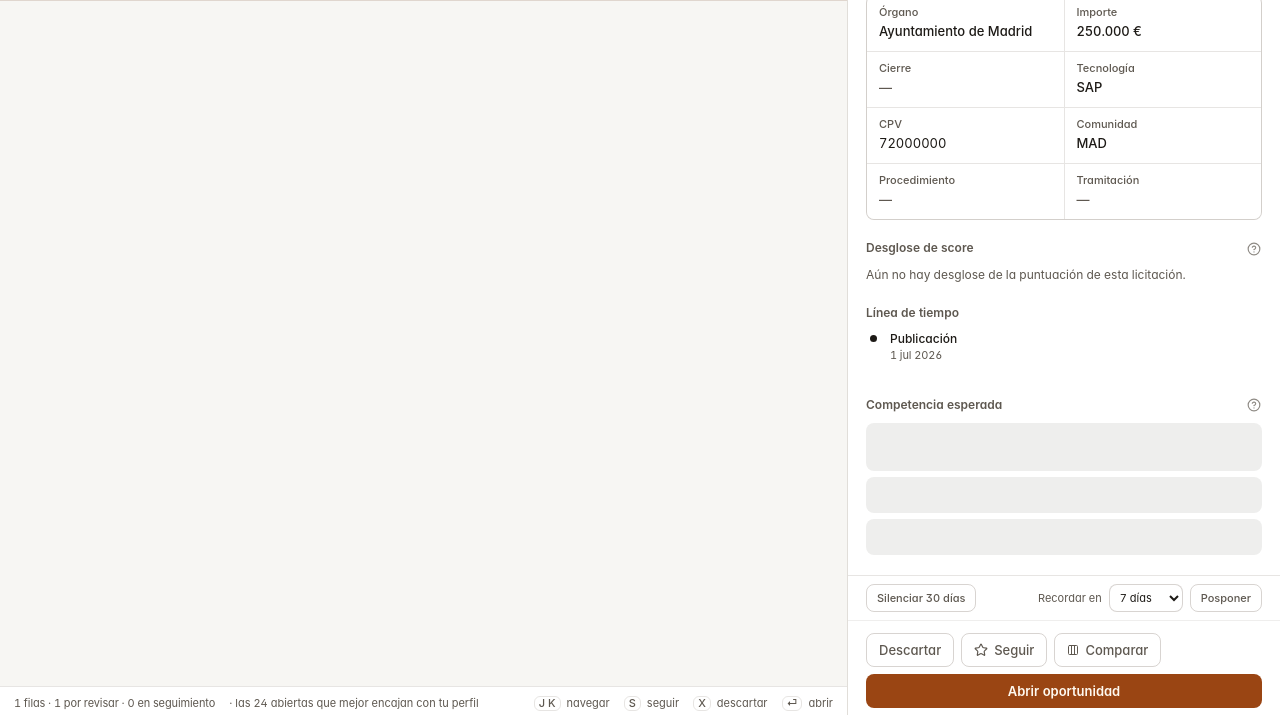
Test case: RadarPage › keeps the dismissed tender reachable in its own segment
This screenshot has width=1280, height=715.
(page scrolled)
What coordinates should you click on to do the following:
click the button "Descartar"
I would click on:
 (910, 650)
Its box is [866,633,954,667].
(page scrolled)
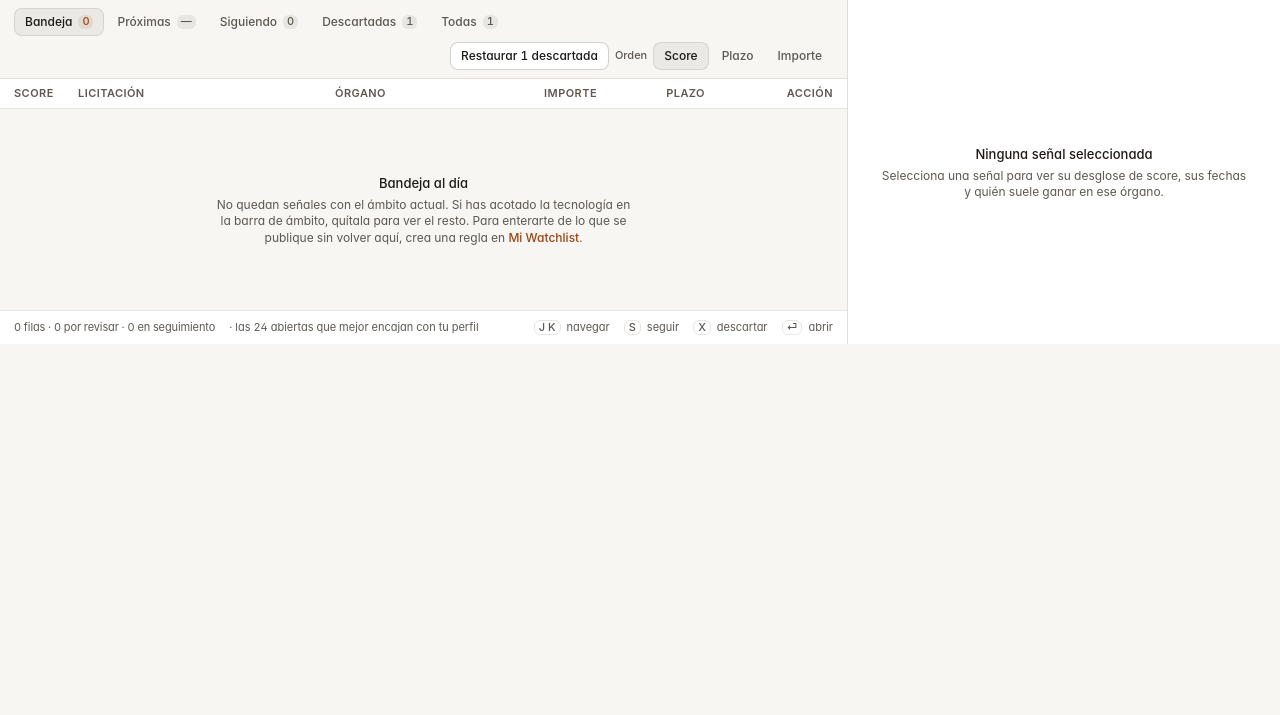
What coordinates should you click on to do the following:
click the button "Descartadas 1"
I would click on:
 (370, 22)
Its box is [311,8,428,36].
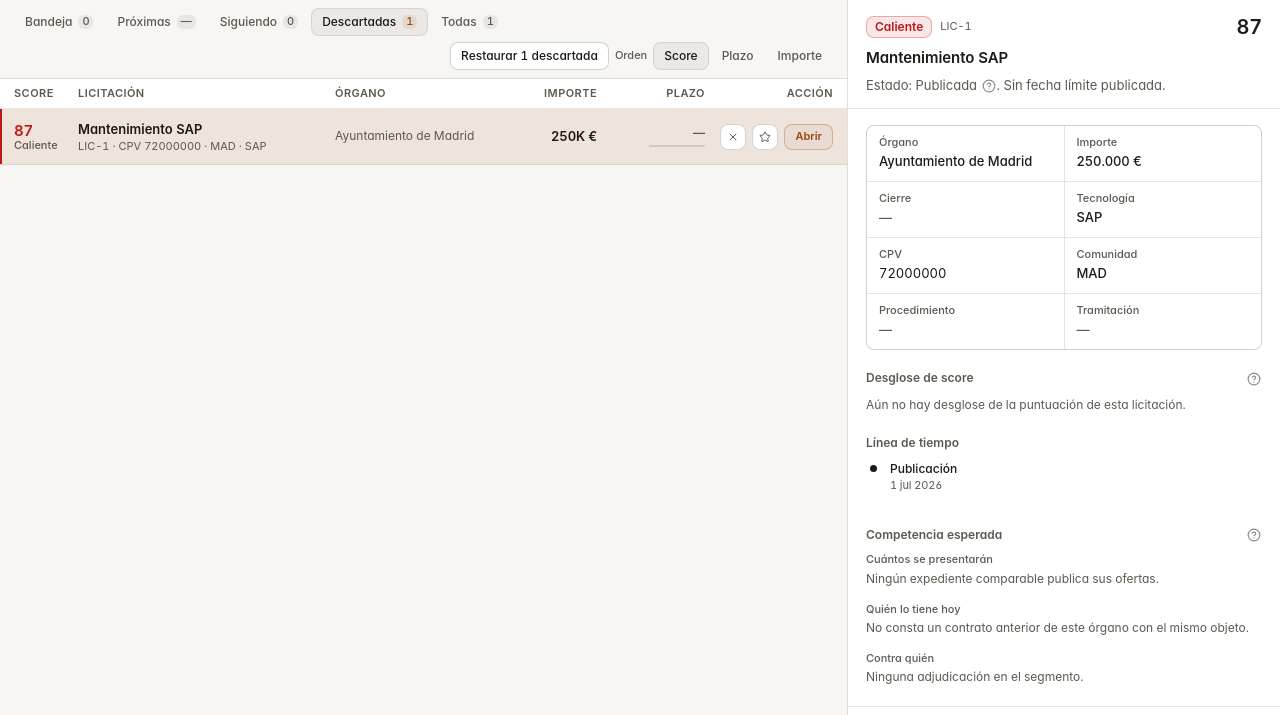
Expected: the text "Mantenimiento SAP" is shown, [78,120,202,138]
